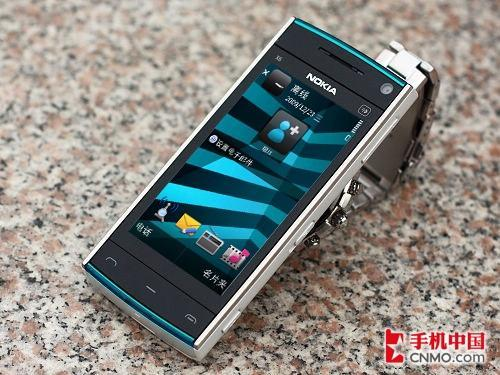phone: (95, 55, 388, 298)
